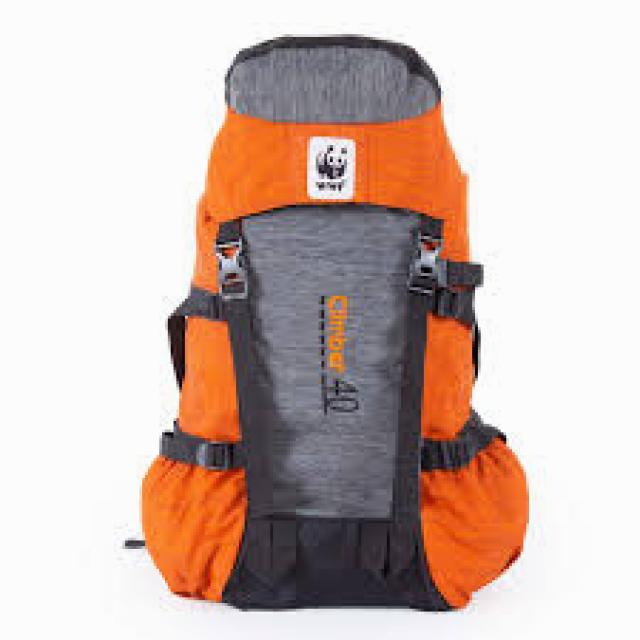backpack: (132, 33, 530, 613)
